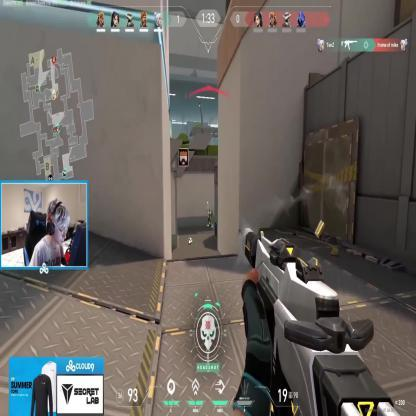enemy: (208, 209, 212, 227)
enemy_head: (209, 208, 210, 212)
